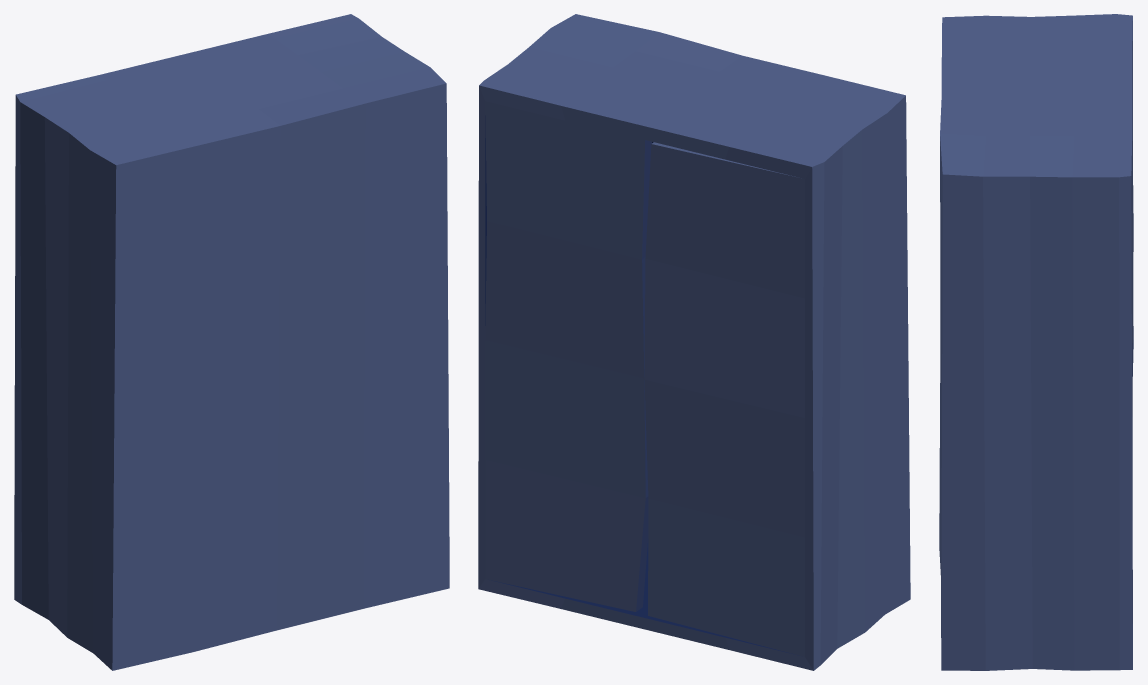
Rendered from CupboardGameOff2024.fbx.
The picture shows the model from 3 angles, left to right: view 1: azimuth 30°, elevation 25°; view 2: azimuth 150°, elevation 25°; view 3: azimuth 270°, elevation 25°; orthographic projection. The views are drawn at different scales.
Parts seen in each view (by area): view 1: ReferenceSize.001; view 2: ReferenceSize.001, Door1, Door2; view 3: ReferenceSize.001, Door1.
Part boxes in pixels (left/top/right/bottom): ReferenceSize.001: left=14, top=14, right=449, bottom=670; ReferenceSize.001: left=478, top=14, right=910, bottom=670; Door1: left=485, top=101, right=651, bottom=611; Door2: left=644, top=142, right=804, bottom=656; ReferenceSize.001: left=939, top=14, right=1132, bottom=670; Door1: left=1132, top=130, right=1133, bottom=346.
Bounding box in the file's own units: 2.84 × 1.43 × 4.02.
